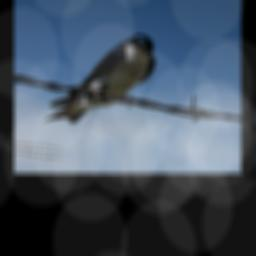Swallow: (46, 24, 159, 134)
